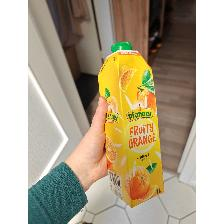Saft: (98, 42, 166, 208)
